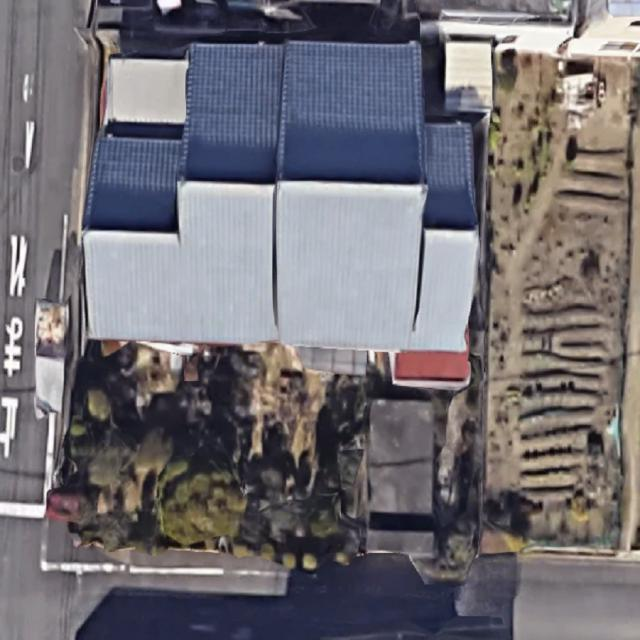Batiment: (84, 41, 479, 350)
